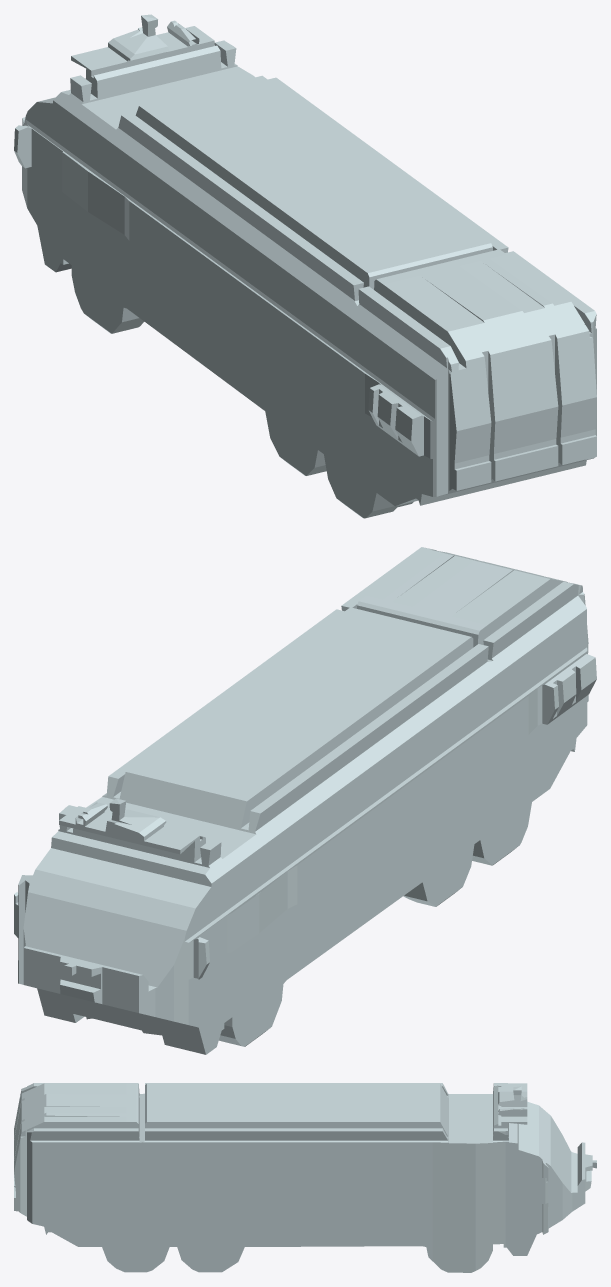
Rendered from FIRE.glb.
3 renders of one model, top to bottom at view 1: azimuth 30°, elevation 25°; view 2: azimuth 150°, elevation 25°; view 3: azimuth 270°, elevation 25°, orthographic. The views are drawn at different scales.
Visible parts, largest first — view 1: Aircraft visual hull; view 2: Aircraft visual hull; view 3: Aircraft visual hull.
Boxes of the visible parts, left/top/right/bottom form: Aircraft visual hull: left=14, top=14, right=596, bottom=518; Aircraft visual hull: left=14, top=547, right=596, bottom=1054; Aircraft visual hull: left=14, top=1083, right=596, bottom=1272.
Size of the model in its own units: 3 by 3.7 by 12.
